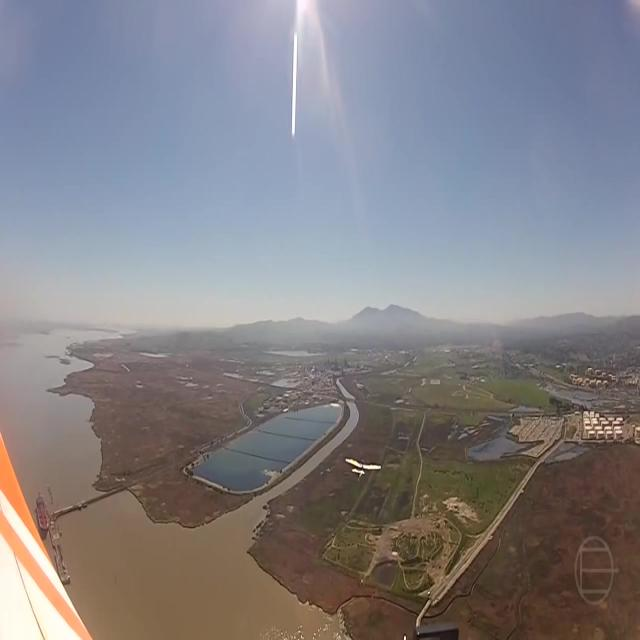iha: (344, 456, 382, 479)
